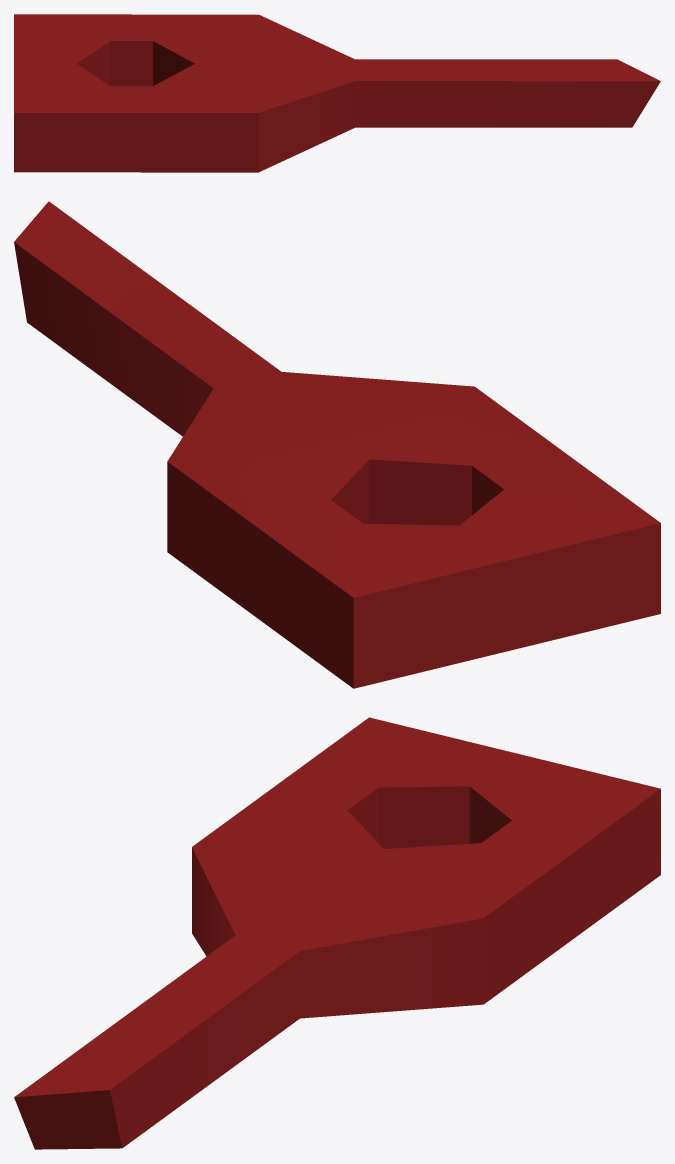
Rendered from BrokenRedKeyHandle.fbx.
3 views of the same model, one above another, from view 1: azimuth 30°, elevation 25°; view 2: azimuth 150°, elevation 25°; view 3: azimuth 270°, elevation 25° (orthographic). The views are drawn at different scales.
Visible parts, largest first — view 1: KeyHandle; view 2: KeyHandle; view 3: KeyHandle.
Part boxes in pixels (left/top/right/bottom): KeyHandle: left=14, top=14, right=660, bottom=172; KeyHandle: left=14, top=201, right=660, bottom=688; KeyHandle: left=14, top=717, right=660, bottom=1149.
Bounding box in the file's own units: 0.7746 × 0.0842 × 0.5717.
